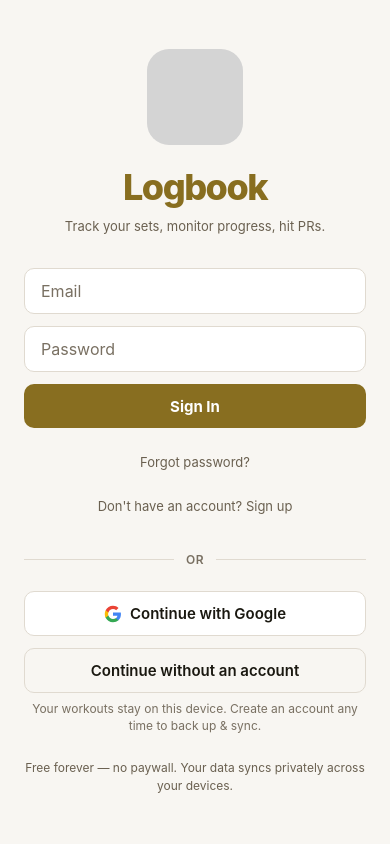
Test: AuthScreen › forgot password (#1430) › sends the code to the typed email and switches to the code form
Type "a@b.co" into the field with placeholder "Email" at (195, 292), box [24,268,366,314]
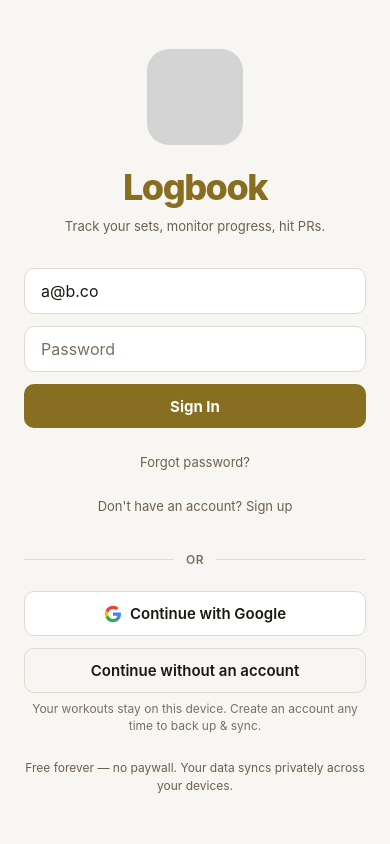
Click the button "Forgot password?" at (195, 462), box [140,440,250,484]
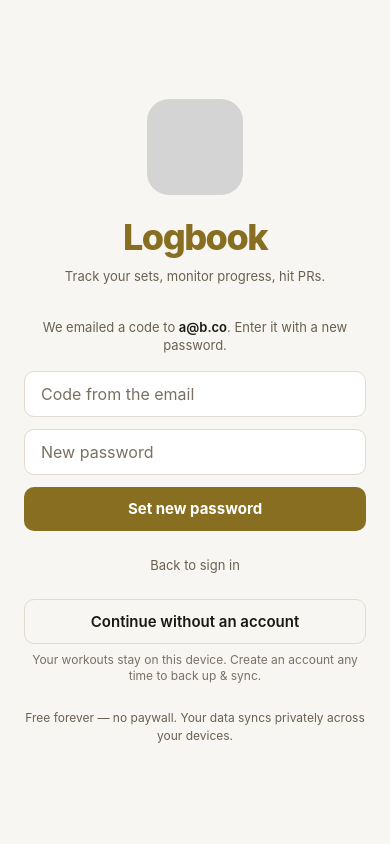
Check: the field with placeholder "Code from the email" is shown, box [24,371,366,417]
Check: the element with id "auth-reset-hint" shows "a@b.co", box [179,319,227,335]
